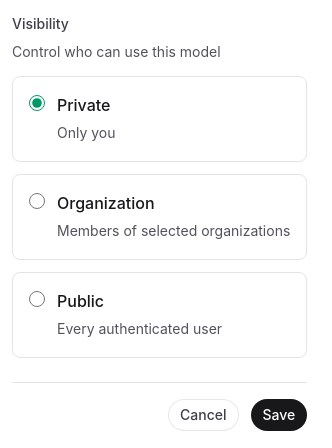
Test: ModelPermissionsPanel › Cancel › resets visibility and selected orgs on cancel
Click the label with test id "model-visibility-public-option": x=81, y=301 [12,272,307,358]
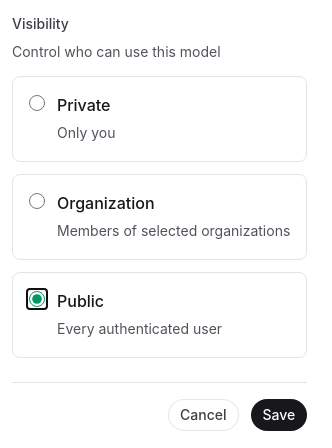
Click the button with test id "model-permissions-cancel-button": x=203, y=415 [168,399,238,431]
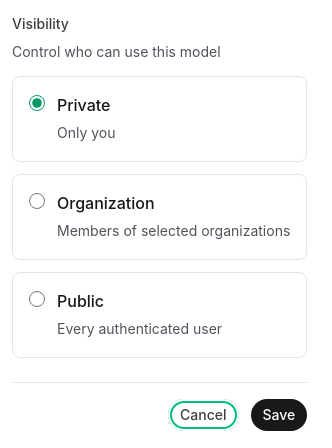
Now the radio button with test id "model-visibility-private-radio" is checked, box [29,95,45,111]
